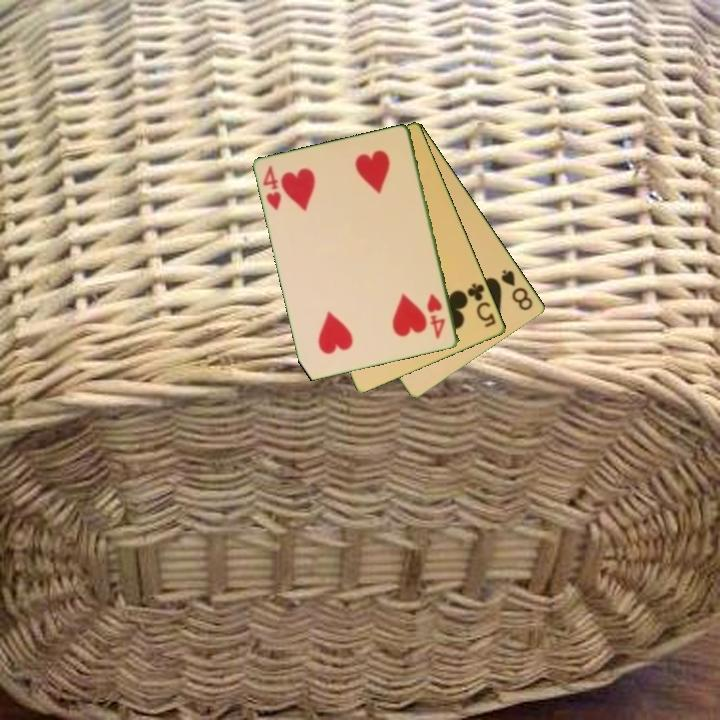4h: (424, 290, 449, 342), (260, 162, 284, 213)
5c: (464, 280, 499, 331)
8s: (498, 266, 536, 314)
